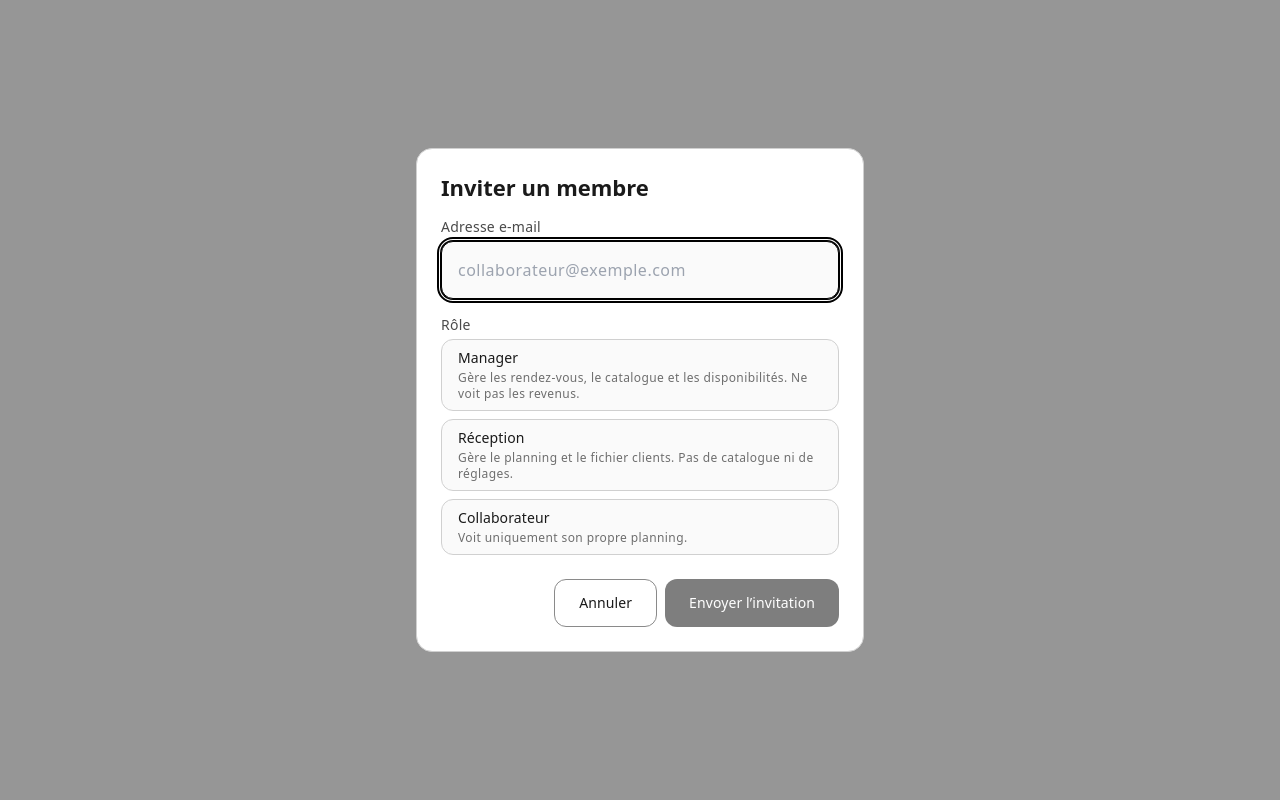
Test case: InviteMemberDialog › a Collaborateur must pick a fiche → artist_required copy
In the field with placeholder "collaborateur@exemple.com": (640, 270) [441,241,839,299], type "staff@salon.test"
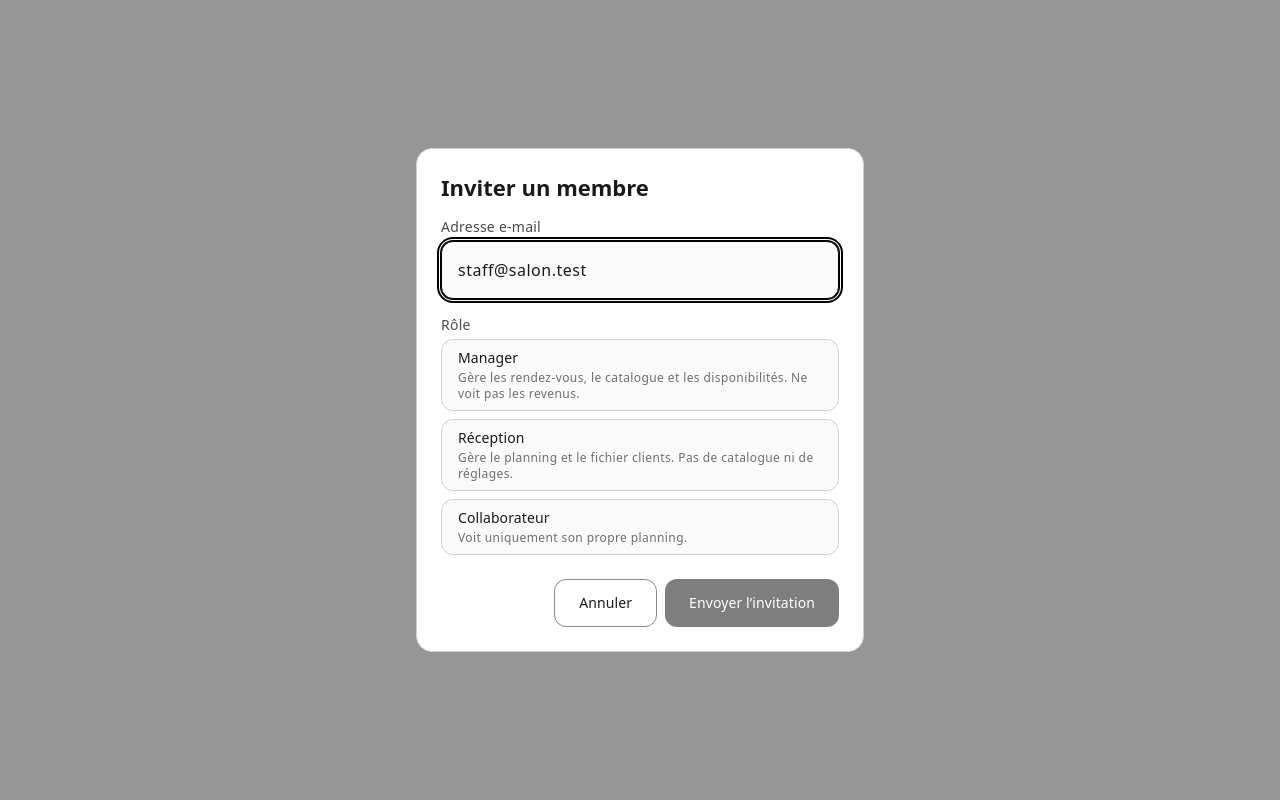
Click the button "Collaborateur Voit uniquement son propre planning.": (640, 527) [441,499,839,555]
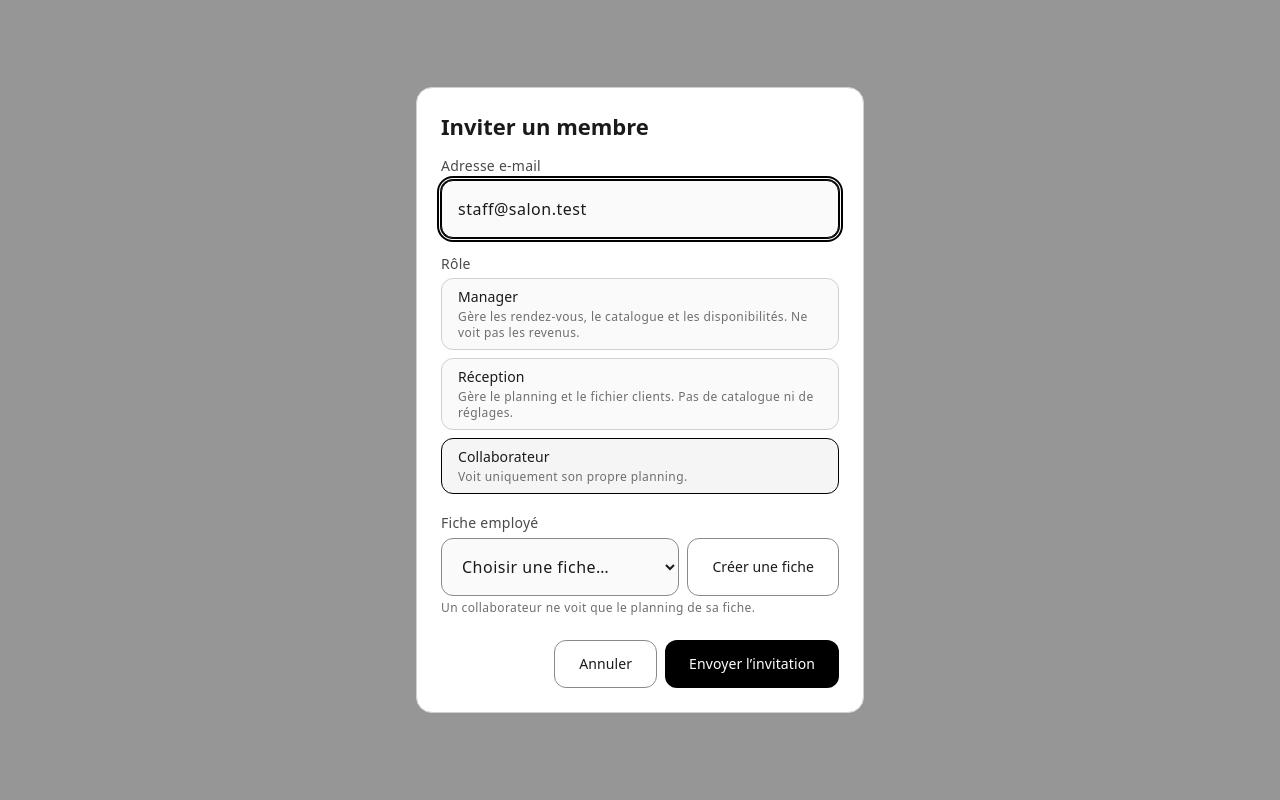
Click the button "Envoyer l’invitation": (752, 664) [665,640,839,688]
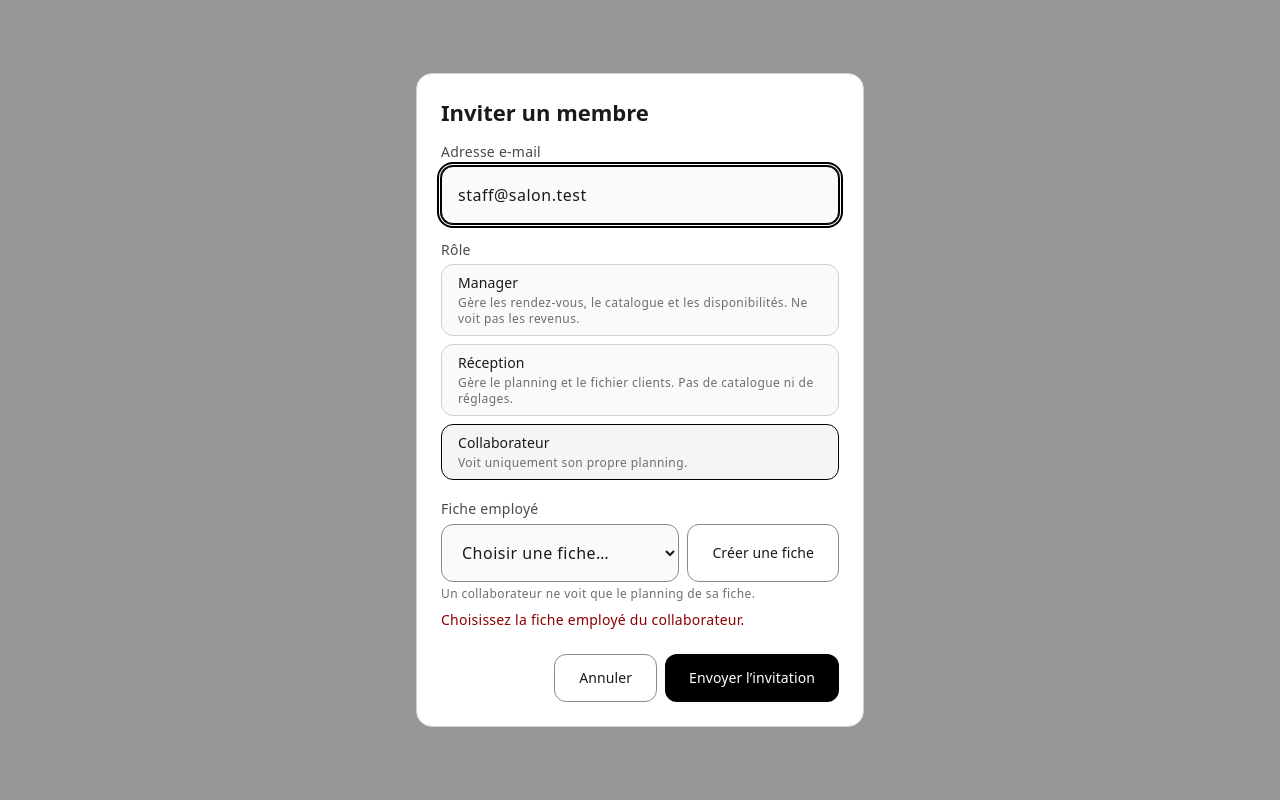
Result: the text "Choisissez la fiche employé du collaborateur." is shown at [441,610,745,629]
